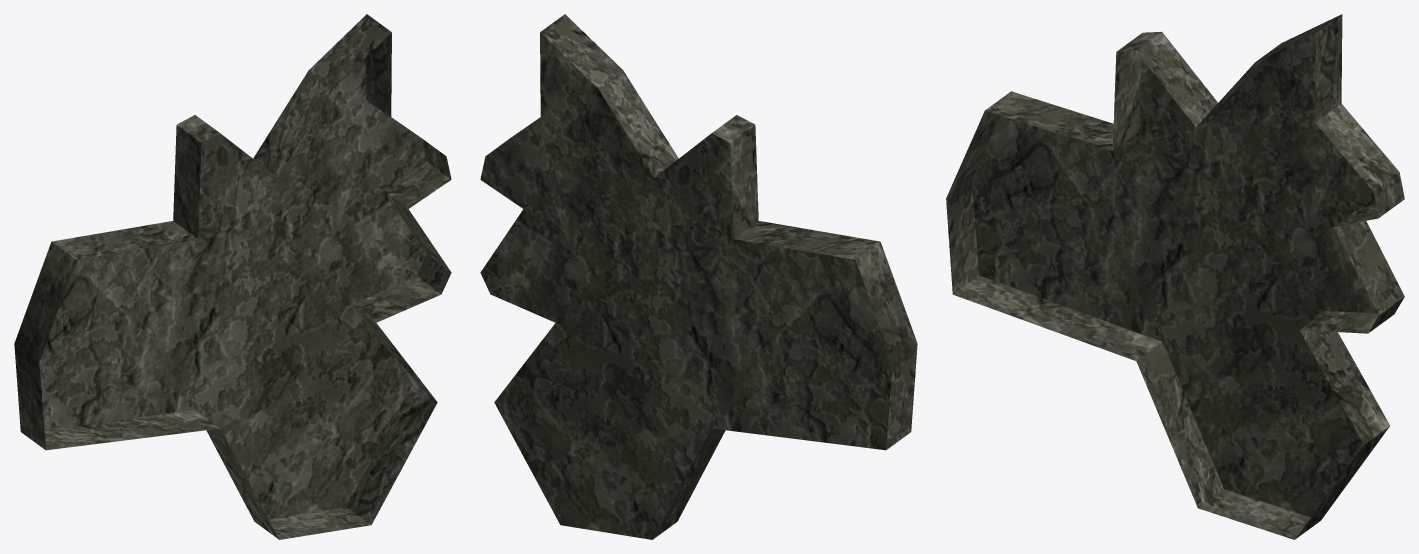
The model's file is TI_Plaster_07.fbx.
3 views of the same model, side by side, from view 1: azimuth 30°, elevation 25°; view 2: azimuth 150°, elevation 25°; view 3: azimuth 330°, elevation 25° (orthographic). The views are drawn at different scales.
Visible parts, largest first — view 1: TI_Plaster_07; view 2: TI_Plaster_07; view 3: TI_Plaster_07.
Boxes of the visible parts, x1,y1,x2,y2 form: TI_Plaster_07: (14, 14, 451, 539); TI_Plaster_07: (480, 14, 917, 539); TI_Plaster_07: (946, 14, 1404, 539).
Bounding box in the file's own units: 1 × 1.14 × 0.1059.
